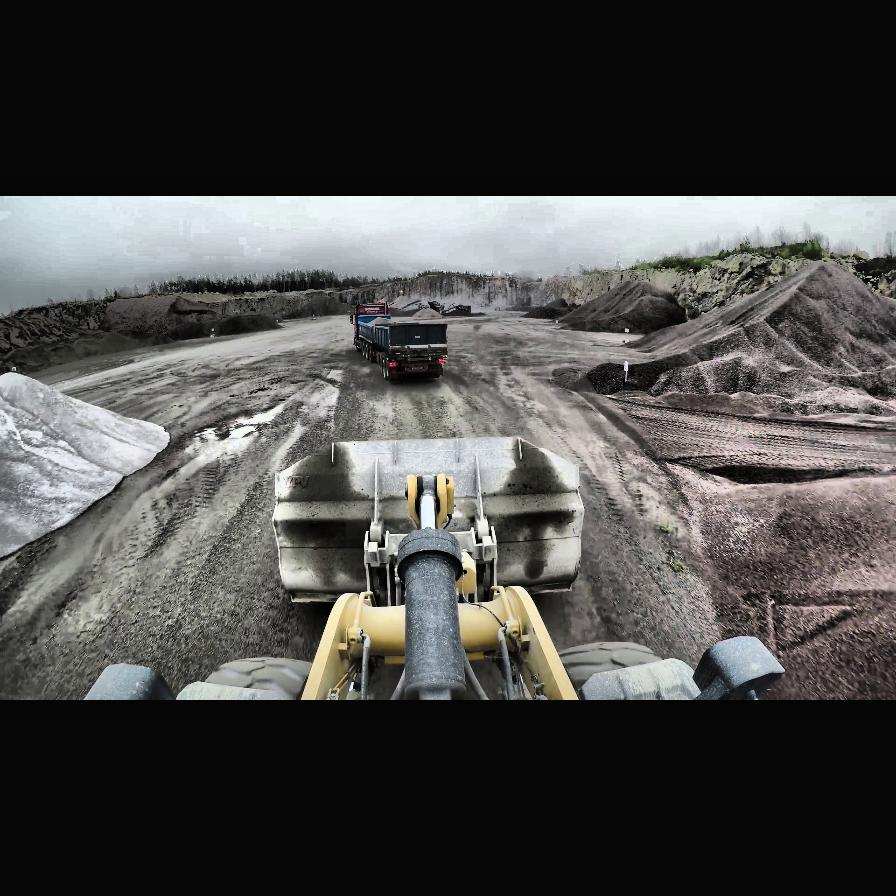anchor: (407, 473, 454, 529)
pile of gravel: (570, 257, 895, 421), (1, 370, 172, 562), (3, 318, 156, 380), (556, 280, 678, 336), (280, 289, 348, 319), (211, 314, 279, 337), (168, 293, 222, 320), (520, 302, 568, 320), (404, 306, 442, 318)
